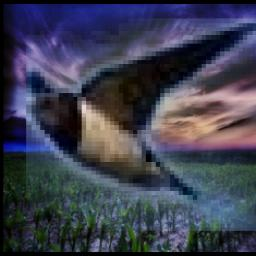Swallow: (27, 19, 256, 232)
